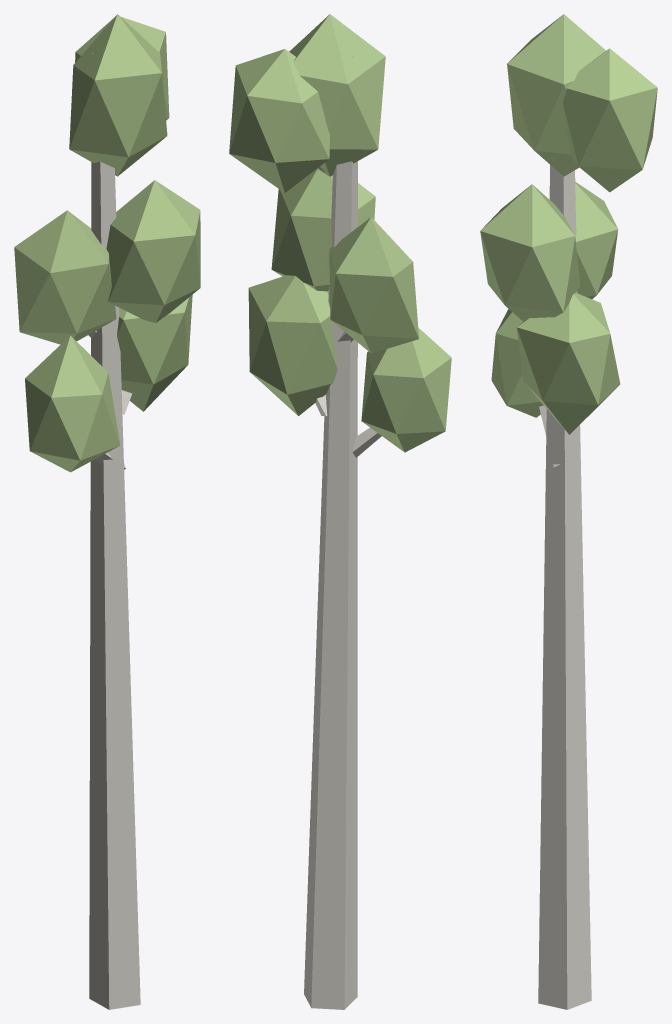
File: arv_betula_4_sem_textura.glb
3 renders of one model, left to right at view 1: azimuth 30°, elevation 25°; view 2: azimuth 150°, elevation 25°; view 3: azimuth 270°, elevation 25°, orthographic.
Visible parts, largest first — view 1: arv_betula_4; view 2: arv_betula_4; view 3: arv_betula_4.
Boxes of the visible parts, x1=… form: arv_betula_4: x1=14, y1=14, x2=200, y2=1009; arv_betula_4: x1=229, y1=14, x2=451, y2=1009; arv_betula_4: x1=480, y1=14, x2=657, y2=1009.
Bounding box in the file's own units: 0.4781 × 2.5 × 0.4079.
